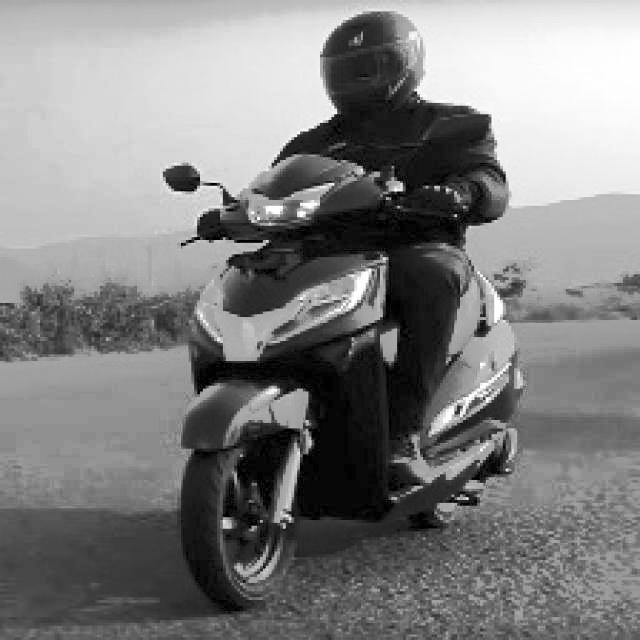Bike: (133, 161, 553, 612)
